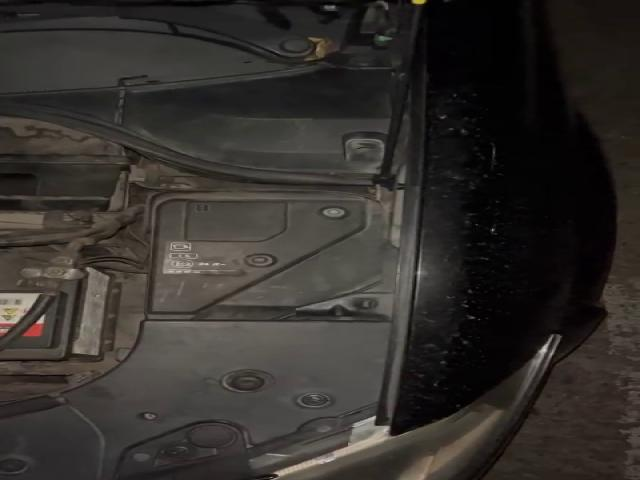accumulator: (3, 247, 103, 359)
fuse_box: (155, 198, 382, 317)
